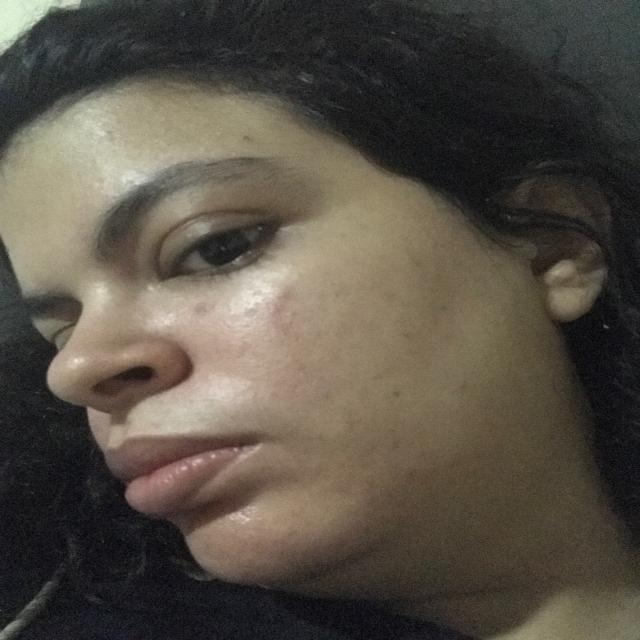Blackheads: (190, 287, 296, 334)
